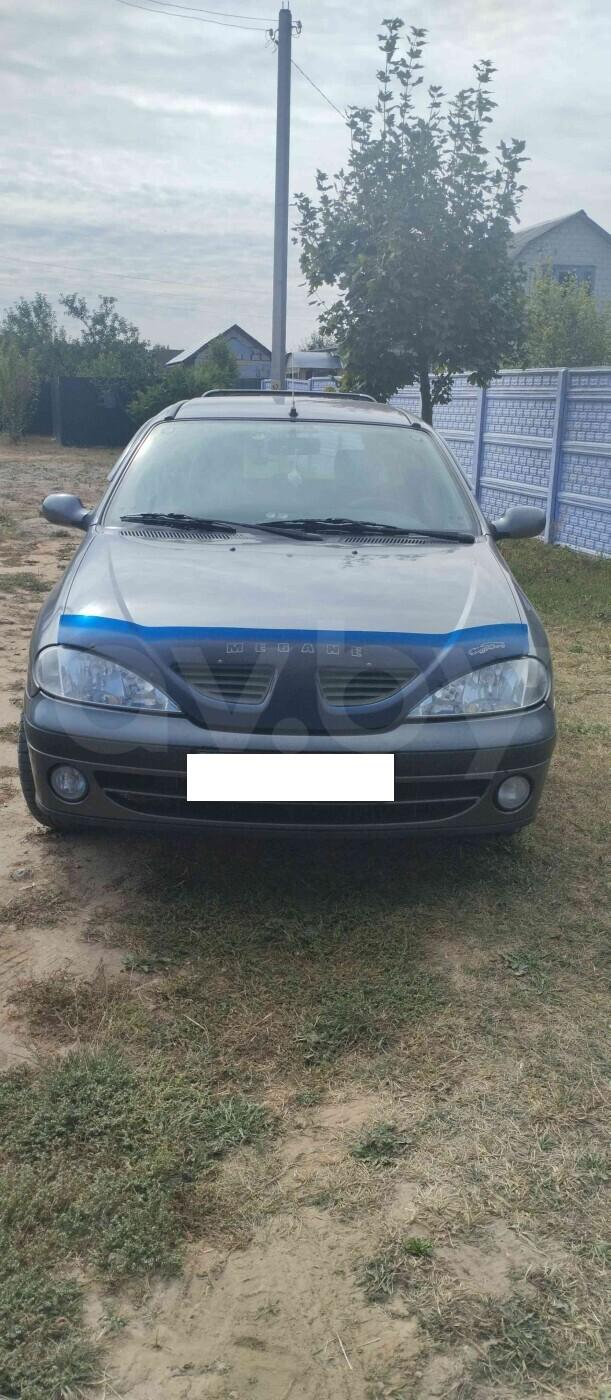Megane_1999-2003: (24, 384, 566, 876)
